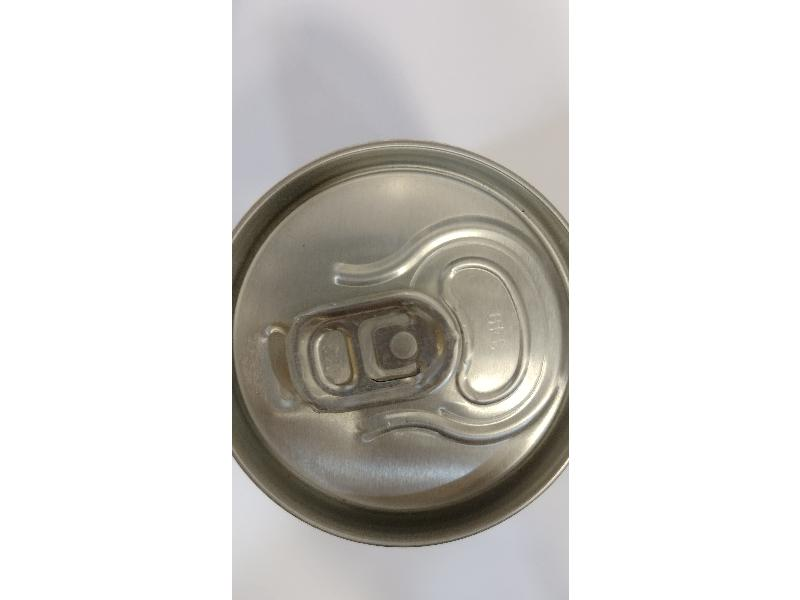can: (235, 136, 568, 552)
